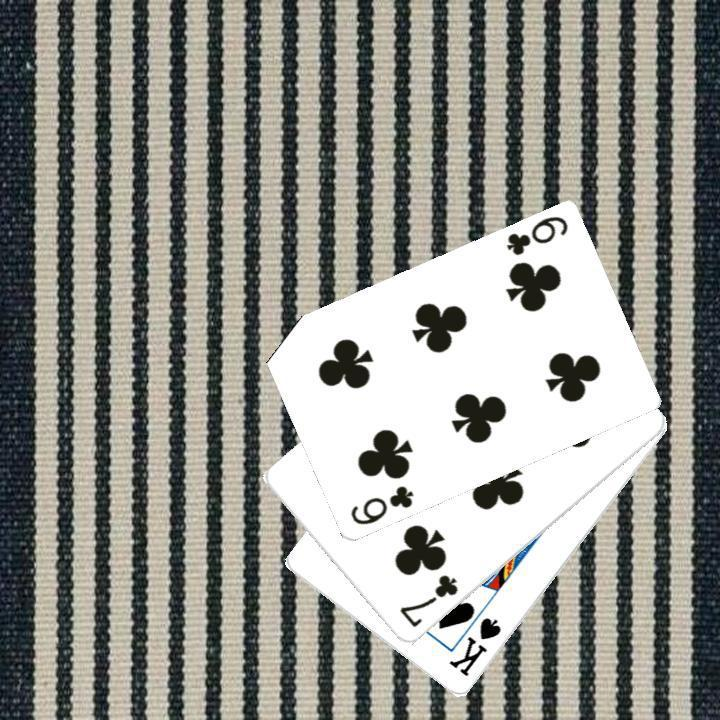6: (345, 481, 415, 528), (501, 212, 570, 258)
7: (395, 570, 461, 630)
K: (445, 613, 504, 679)
